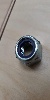Nut: (11, 36, 42, 67)
